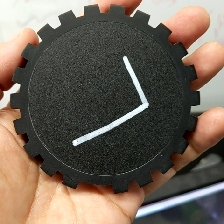gear: (8, 2, 202, 196)
missing: (62, 170, 130, 197)
